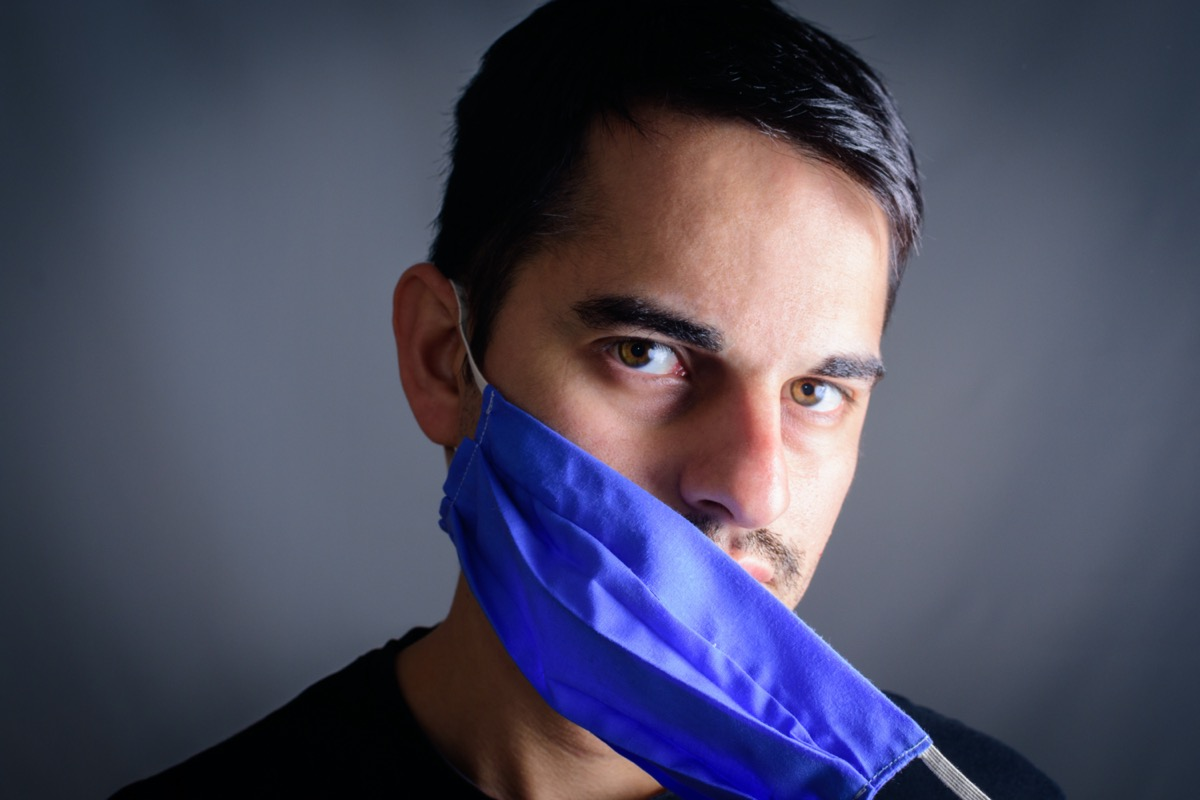mask_weared_incorrect: (460, 269, 900, 583)
